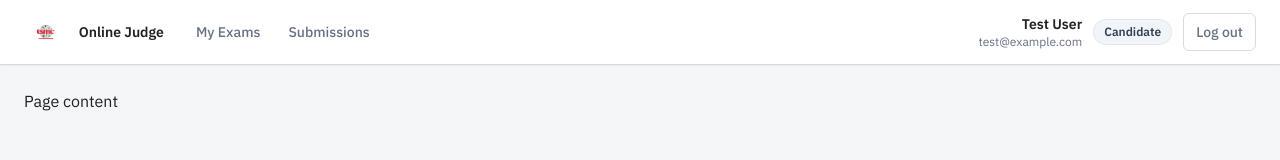
Test case: AppShell logout › logout button is disabled while logging out
The width and height of the screenshot is (1280, 160).
Click the button "Log out": [1220, 32] box [1183, 13, 1256, 51]
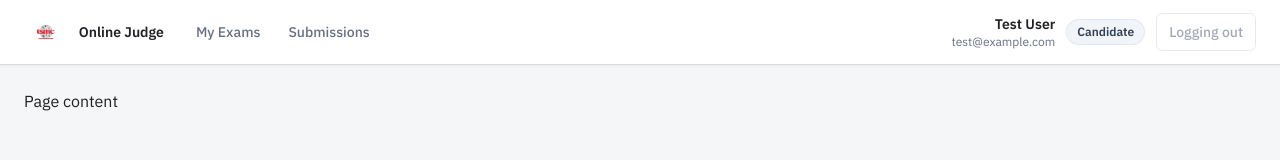
Check: the button "Logging out" is disabled, box [1156, 13, 1256, 51]
